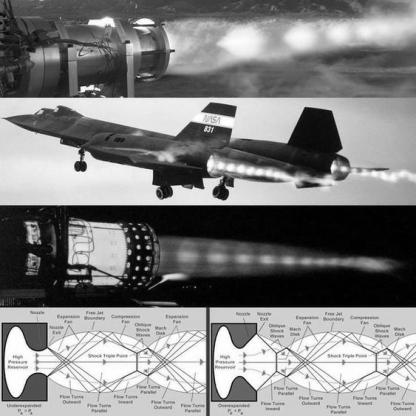SR71: (2, 102, 391, 202)
